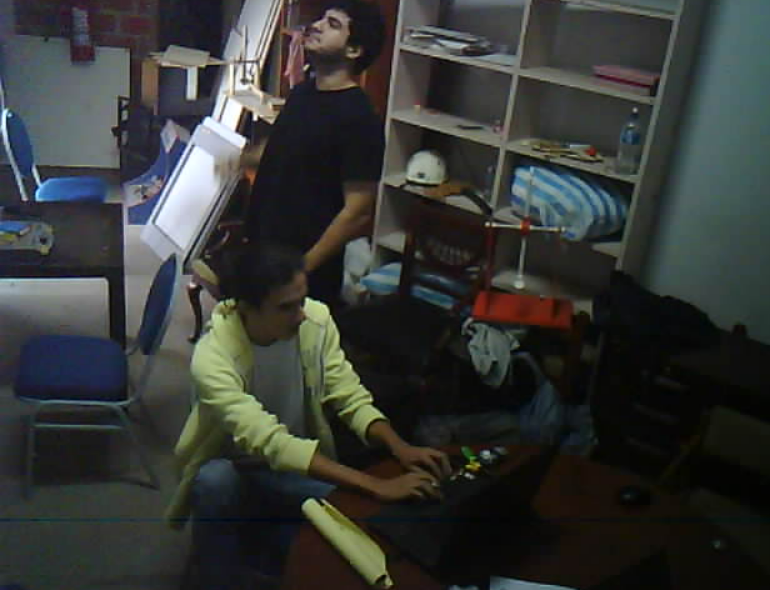person: (153, 235, 466, 586), (235, 0, 387, 320)
